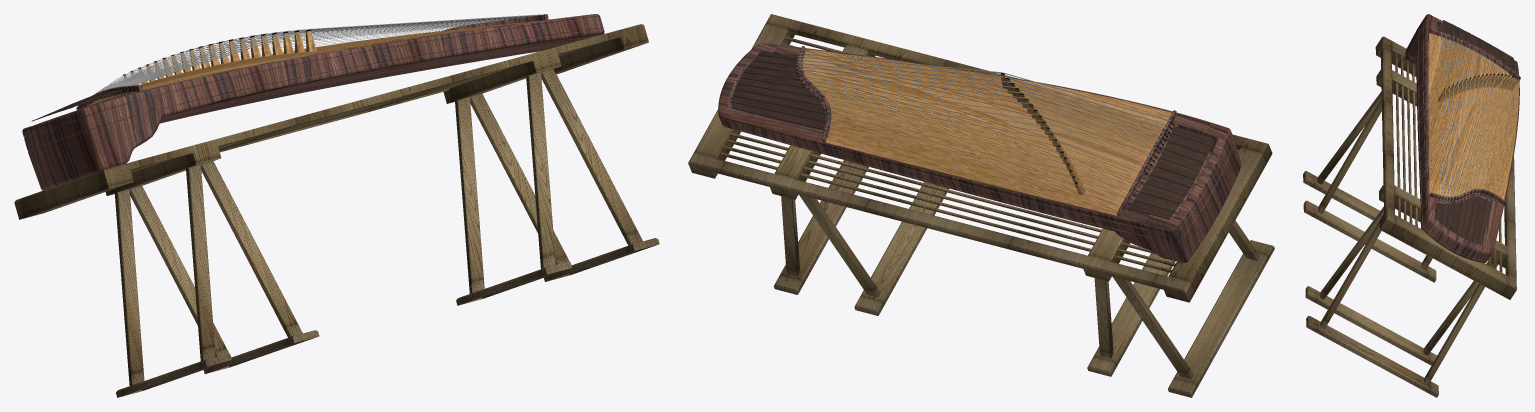
Rendered from 古筝拼装图.FBX.
3 renders of one model, left to right at view 1: azimuth 30°, elevation 25°; view 2: azimuth 150°, elevation 25°; view 3: azimuth 270°, elevation 25°, orthographic. The views are drawn at different scales.
Parts seen in each view (by area): view 1: 筝架, 边板及底板, 筝弦, 面板; view 2: 筝架, 面板, 边板及底板, 筝弦, 筝尾, 筝首; view 3: 筝架, 面板, 边板及底板, 筝弦, 筝尾, 筝首.
Part boxes in pixels (left/top/right/bottom): 筝架: left=14, top=24, right=659, bottom=397; 边板及底板: left=22, top=14, right=604, bottom=190; 筝弦: left=81, top=14, right=540, bottom=106; 面板: left=88, top=21, right=536, bottom=106; 筝架: left=688, top=14, right=1274, bottom=397; 面板: left=802, top=49, right=1171, bottom=215; 边板及底板: left=718, top=43, right=1241, bottom=262; 筝弦: left=797, top=53, right=1173, bottom=204; 筝尾: left=731, top=52, right=824, bottom=129; 筝首: left=1128, top=126, right=1213, bottom=219; 筝架: left=1303, top=36, right=1516, bottom=397; 面板: left=1428, top=33, right=1519, bottom=199; 边板及底板: left=1405, top=14, right=1520, bottom=262; 筝弦: left=1437, top=32, right=1520, bottom=201; 筝尾: left=1435, top=196, right=1491, bottom=245; 筝首: left=1443, top=20, right=1515, bottom=71.
Size of the model in its own units: 1332 by 736 by 640.
7 materials, 5 textured.
